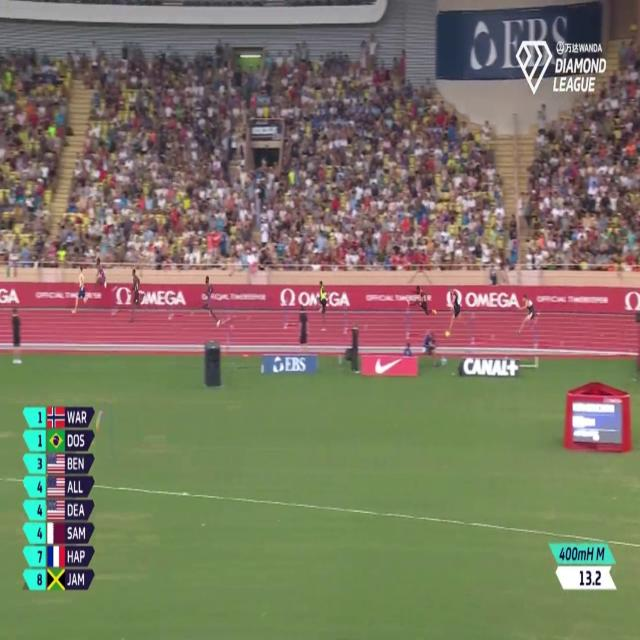athlete: (514, 288, 544, 337), (444, 280, 465, 346), (406, 279, 438, 317), (71, 258, 90, 322), (200, 266, 219, 329), (129, 256, 146, 326), (316, 270, 330, 342), (94, 253, 108, 297)
hurdle: (336, 292, 351, 341), (107, 279, 121, 316), (162, 287, 176, 324), (532, 314, 546, 349), (280, 297, 292, 336), (469, 306, 478, 350), (402, 306, 413, 341)
